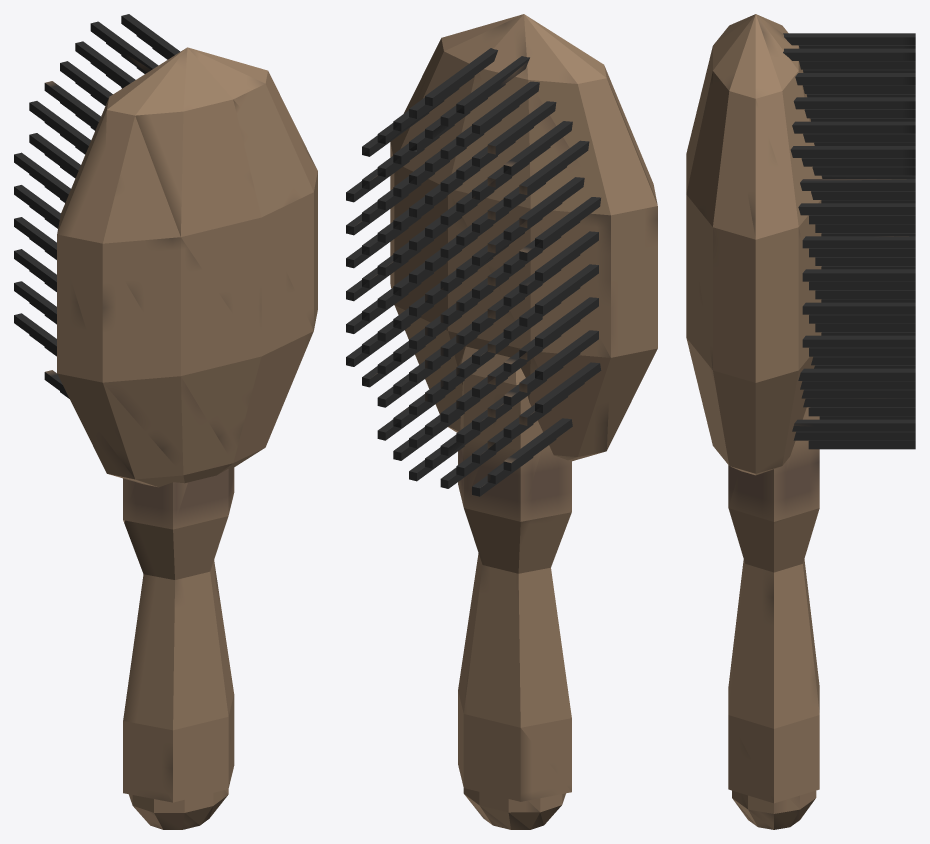
The picture shows the model from 3 angles, left to right: view 1: azimuth 30°, elevation 25°; view 2: azimuth 150°, elevation 25°; view 3: azimuth 270°, elevation 25°; orthographic projection. The views are drawn at different scales.
Parts seen in each view (by area): view 1: sphere_1, cone_1, cylinder_1, cylinder, cone, sphere, cuboid_126, cuboid_127, cuboid_54, cuboid_118, cuboid_111, cuboid_125 (+7 smaller); view 2: sphere_1, cone_1, cylinder_1, cylinder, cone, sphere, cuboid_126, cuboid_125, cuboid_127, cuboid_111, cuboid_83, cuboid_53 (+9 smaller); view 3: sphere_1, cone_1, cylinder_1, cylinder, cone, sphere, cuboid_125, cuboid_126, cuboid_121, cuboid_65, cuboid_122, cuboid_124 (+34 smaller).
Part boxes in pixels (bbox=[...]): sphere_1: bbox=[57, 47, 317, 487]; cone_1: bbox=[123, 560, 233, 730]; cylinder_1: bbox=[123, 694, 234, 802]; cylinder: bbox=[123, 467, 234, 529]; cone: bbox=[123, 516, 228, 579]; sphere: bbox=[129, 789, 228, 829]; cuboid_126: bbox=[90, 21, 158, 72]; cuboid_127: bbox=[29, 101, 90, 151]; cuboid_54: bbox=[75, 41, 135, 86]; cuboid_118: bbox=[14, 152, 70, 200]; cuboid_111: bbox=[44, 81, 100, 127]; cuboid_125: bbox=[121, 14, 180, 58]; sphere_1: bbox=[390, 14, 657, 461]; cone_1: bbox=[458, 553, 571, 727]; cylinder_1: bbox=[458, 691, 571, 801]; cylinder: bbox=[458, 374, 571, 521]; cone: bbox=[464, 508, 571, 573]; sphere: bbox=[463, 788, 565, 829]; cuboid_126: bbox=[456, 56, 529, 113]; cuboid_125: bbox=[425, 48, 497, 106]; cuboid_127: bbox=[519, 140, 589, 194]; cuboid_111: bbox=[503, 121, 572, 174]; cuboid_83: bbox=[503, 418, 572, 471]; cuboid_53: bbox=[487, 101, 556, 154]; sphere_1: bbox=[686, 14, 822, 475]; cone_1: bbox=[728, 559, 819, 728]; cylinder_1: bbox=[728, 715, 819, 803]; cylinder: bbox=[728, 407, 819, 521]; cone: bbox=[728, 508, 819, 572]; sphere: bbox=[732, 790, 816, 829]; cuboid_125: bbox=[783, 48, 915, 60]; cuboid_126: bbox=[783, 33, 915, 45]; cuboid_121: bbox=[792, 121, 915, 133]; cuboid_65: bbox=[792, 419, 915, 431]; cuboid_122: bbox=[793, 97, 915, 109]; cuboid_124: bbox=[795, 73, 915, 85].
Size of the model in its own units: 66.41 by 191 by 49.04.
1 material, 1 textured.
